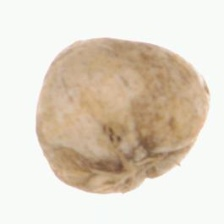L1: (100, 144, 175, 193)
L2: (35, 37, 212, 195)
